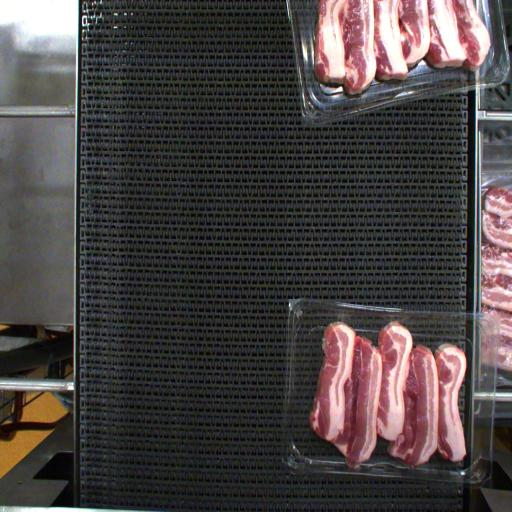packaging-error: (337, 308, 346, 325)
